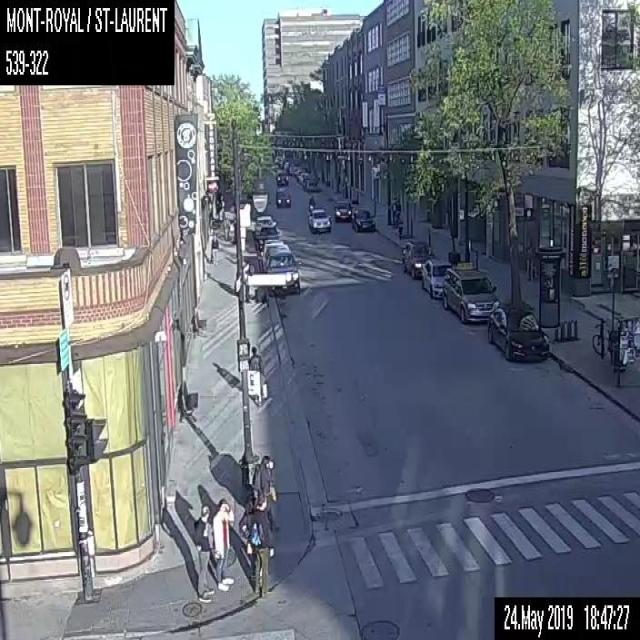pedestrian: (247, 494, 273, 598), (194, 497, 213, 603), (252, 454, 278, 530), (212, 496, 233, 590), (238, 494, 256, 581), (249, 345, 269, 407), (210, 230, 218, 266), (216, 192, 224, 224), (394, 198, 400, 227), (391, 196, 396, 223)
vehicle: (443, 261, 501, 323), (488, 304, 548, 361), (265, 251, 301, 294), (401, 240, 435, 278), (420, 258, 453, 297), (263, 244, 290, 271), (255, 224, 279, 250), (351, 207, 375, 232), (308, 208, 332, 232), (253, 213, 275, 232), (334, 199, 353, 220), (261, 239, 283, 257), (275, 185, 290, 206), (302, 176, 319, 190), (276, 168, 288, 184), (296, 172, 310, 182), (292, 165, 303, 176), (274, 154, 283, 167), (308, 195, 314, 211), (285, 162, 294, 172), (282, 160, 288, 168)
